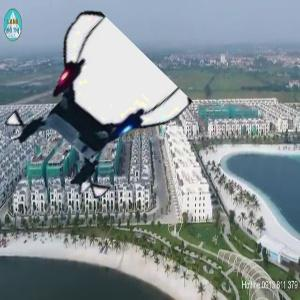drone: (13, 34, 171, 192)
